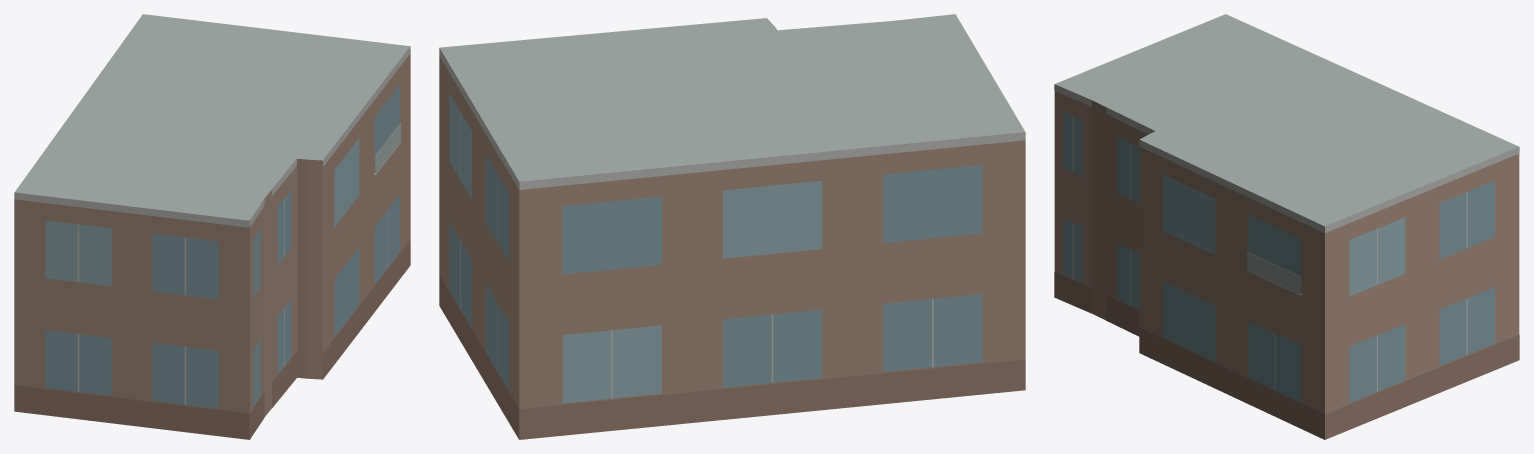
The model's file is survey-upis-32638894.glb.
The picture shows the model from 3 angles, left to right: view 1: azimuth 30°, elevation 25°; view 2: azimuth 150°, elevation 25°; view 3: azimuth 270°, elevation 25°; orthographic projection. The views are drawn at different scales.
Parts seen in each view (by area): view 1: survey-upis-32638894.tmp; view 2: survey-upis-32638894.tmp; view 3: survey-upis-32638894.tmp.
Part boxes in pixels (x1=…): survey-upis-32638894.tmp: x1=14, y1=14, x2=410, y2=439; survey-upis-32638894.tmp: x1=439, y1=14, x2=1025, y2=439; survey-upis-32638894.tmp: x1=1054, y1=14, x2=1519, y2=439.
Size of the model in its own units: 16.44 by 7.7 by 15.21.
